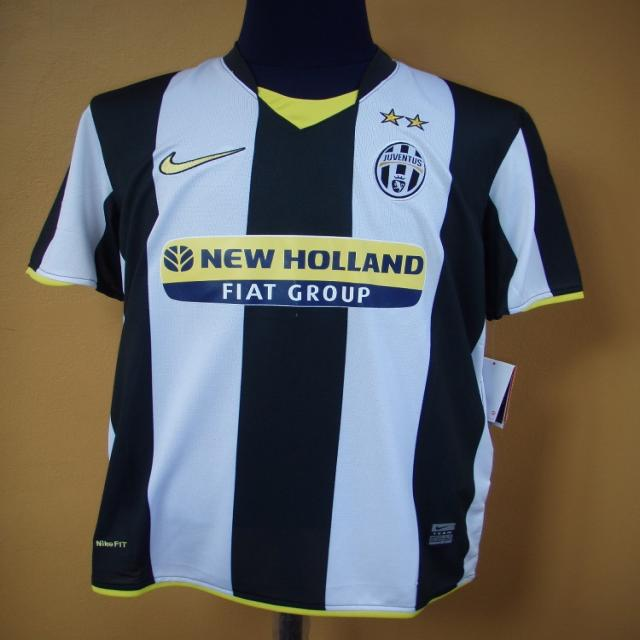T-shirt: (27, 45, 590, 640)
